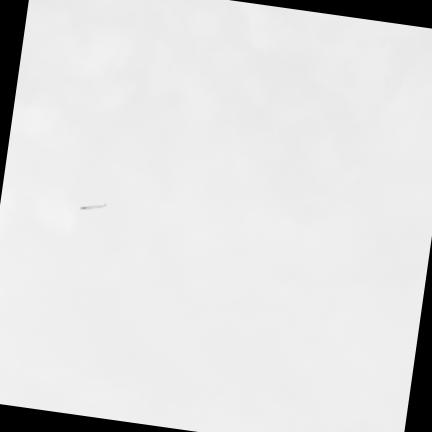Shahed: (80, 203, 105, 209)
